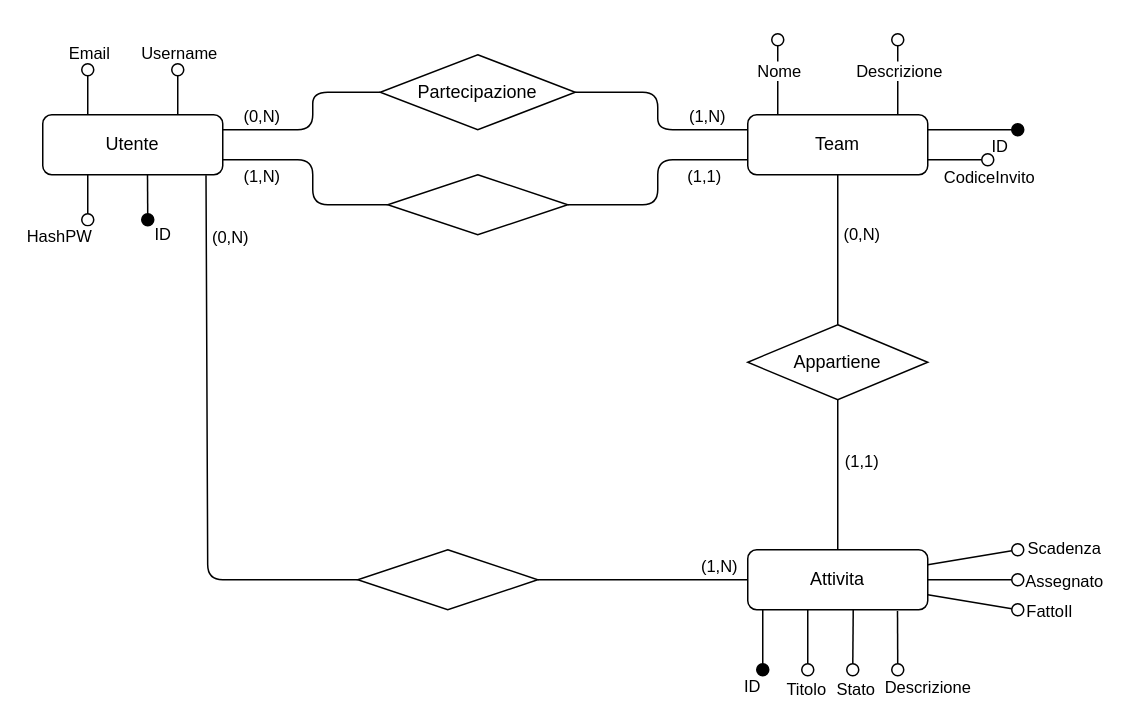
The diagram is 1128 pixels wide and 725 high, and some of its shapes have lost their labels. Each missing label, with the centre of its shape:
"Gestione" belongs at (447,579).
"Proprietà" belongs at (477,204).
